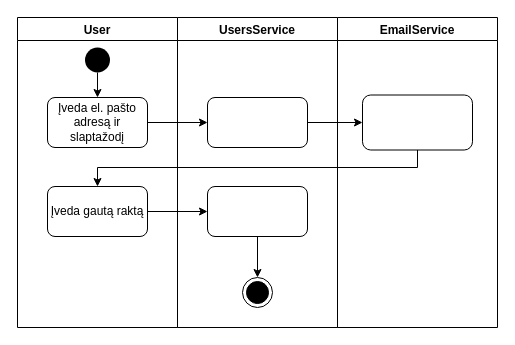
The diagram is 515 pixels wide and 345 high, and some of its shapes have lost their labels. The centre of each missing label's shape, as x and y in pixels:
"Išsiųnčia el. laišką su autentifikavimo prieigos raktu" goes at point 417,122.
"Patvirtinti naują vartotoją" goes at point 257,211.
"Sukuria naują nepatvirtintą vartotoją" goes at point 257,122.
